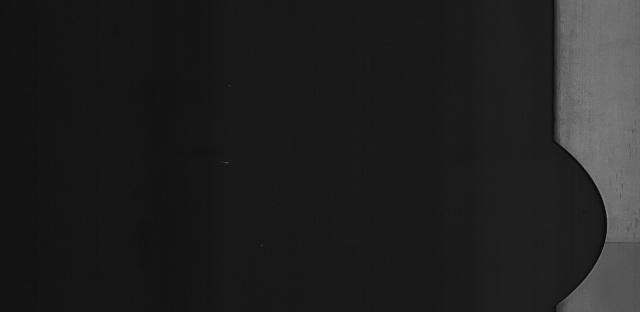welding_line: (599, 238, 640, 246)
